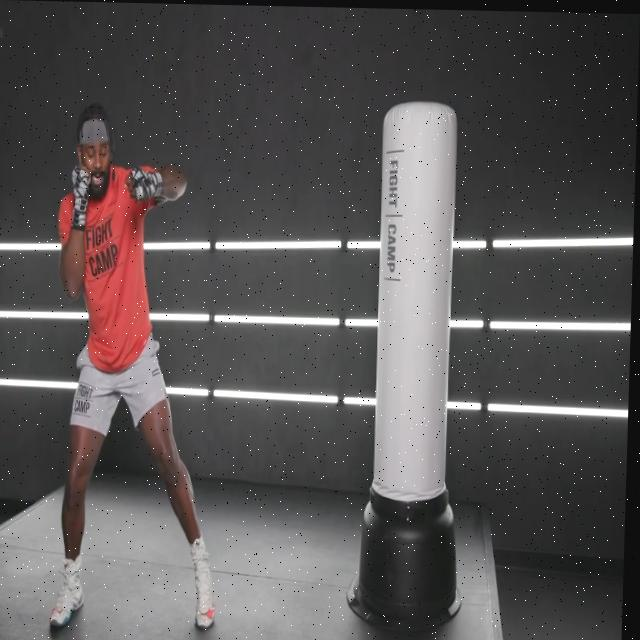Hook: (50, 143, 202, 399)
